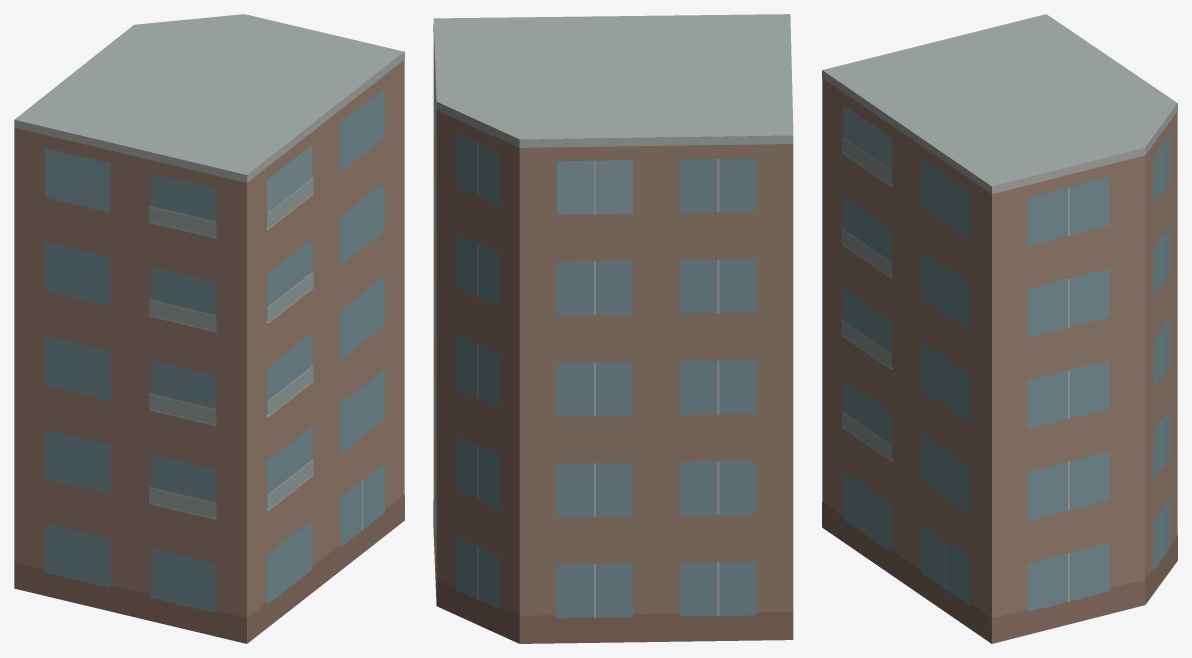
Rendered from survey-upis-32974629.glb.
3 renders of one model, left to right at view 1: azimuth 30°, elevation 25°; view 2: azimuth 150°, elevation 25°; view 3: azimuth 270°, elevation 25°, orthographic. The views are drawn at different scales.
Parts seen in each view (by area): view 1: survey-upis-32974629.tmp; view 2: survey-upis-32974629.tmp; view 3: survey-upis-32974629.tmp.
Boxes of the visible parts, bbox=[...] form: survey-upis-32974629.tmp: bbox=[14, 14, 404, 643]; survey-upis-32974629.tmp: bbox=[433, 14, 793, 643]; survey-upis-32974629.tmp: bbox=[822, 14, 1177, 643].
Bounding box in the file's own units: 11.74 × 14.5 × 10.23.
